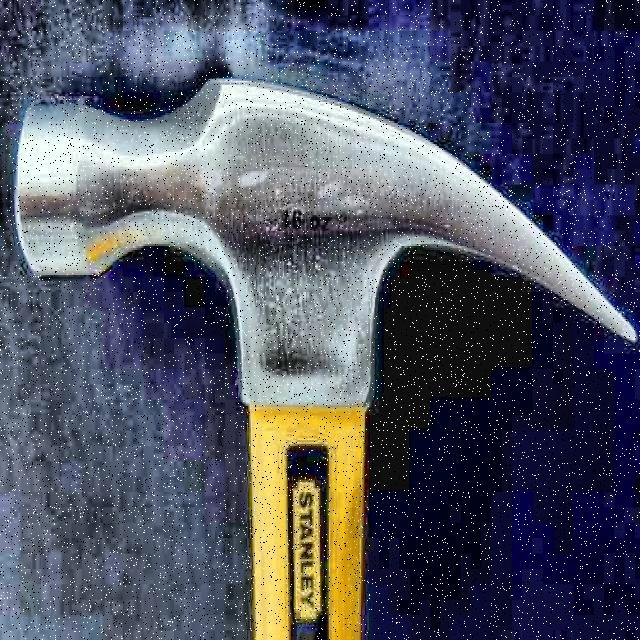hammer: (11, 76, 635, 640)
